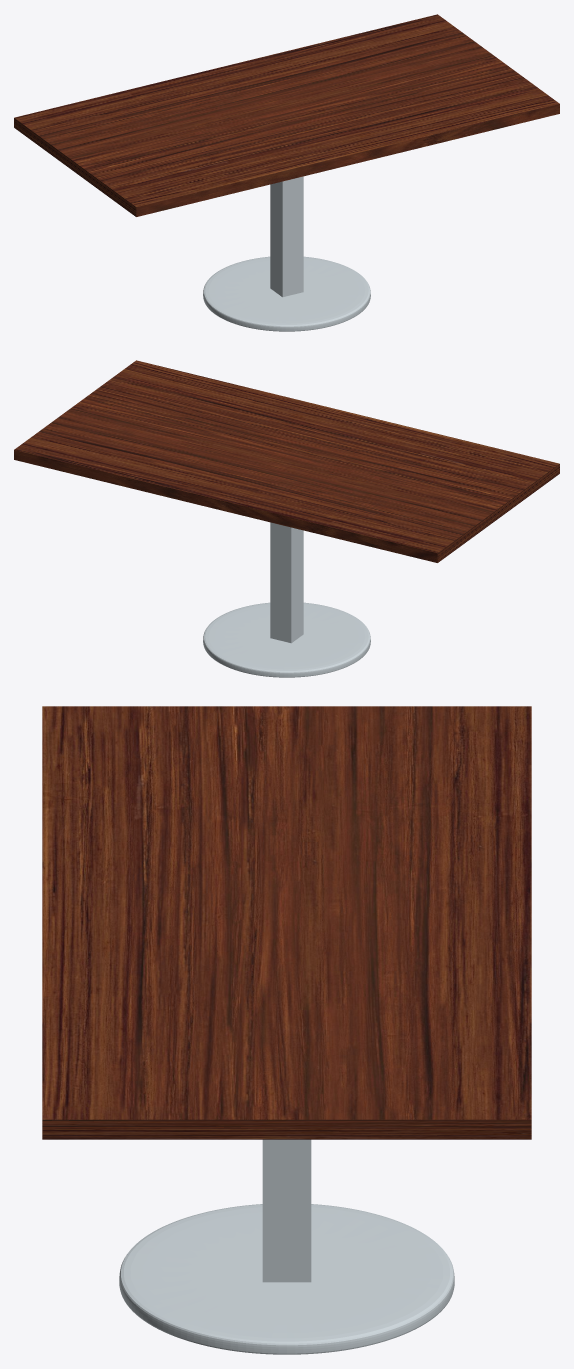
Rendered from Diner_Table.fbx.
3 views of the same model, one above another, from view 1: azimuth 30°, elevation 25°; view 2: azimuth 150°, elevation 25°; view 3: azimuth 270°, elevation 25° (orthographic). The views are drawn at different scales.
Visible parts, largest first — view 1: Top, Base, Pole; view 2: Top, Base, Pole; view 3: Top, Base, Pole.
Part boxes in pixels (left/top/right/bottom): Top: left=14, top=14, right=559, bottom=216; Base: left=203, top=256, right=370, bottom=331; Pole: left=270, top=176, right=303, bottom=297; Top: left=14, top=360, right=559, bottom=562; Base: left=203, top=602, right=370, bottom=677; Pole: left=270, top=522, right=303, bottom=643; Top: left=42, top=706, right=531, bottom=1139; Base: left=119, top=1204, right=454, bottom=1354; Pole: left=262, top=1139, right=311, bottom=1282.
Bounding box in the file's own units: 200 × 84 × 100.
